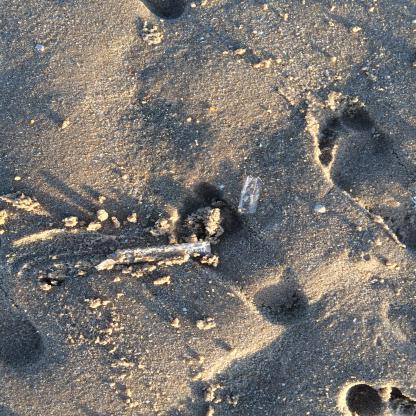plastik: (97, 242, 214, 272), (239, 178, 263, 215)
